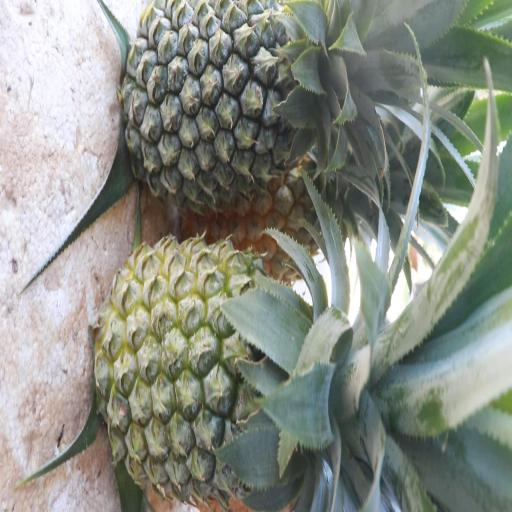------------------------------: (100, 243, 348, 499)
